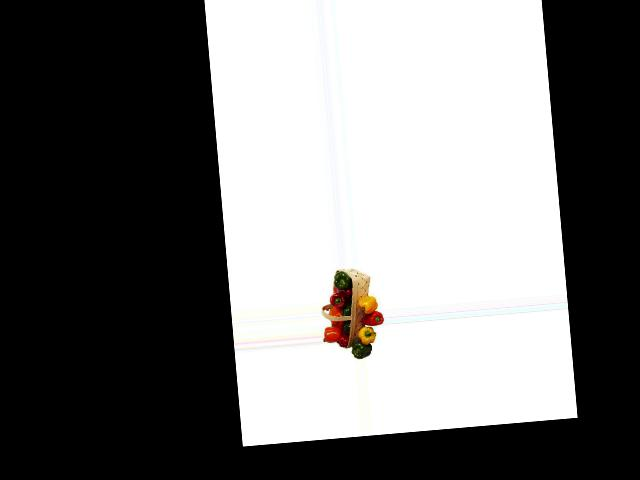bell_pepper: (332, 270, 351, 292)
